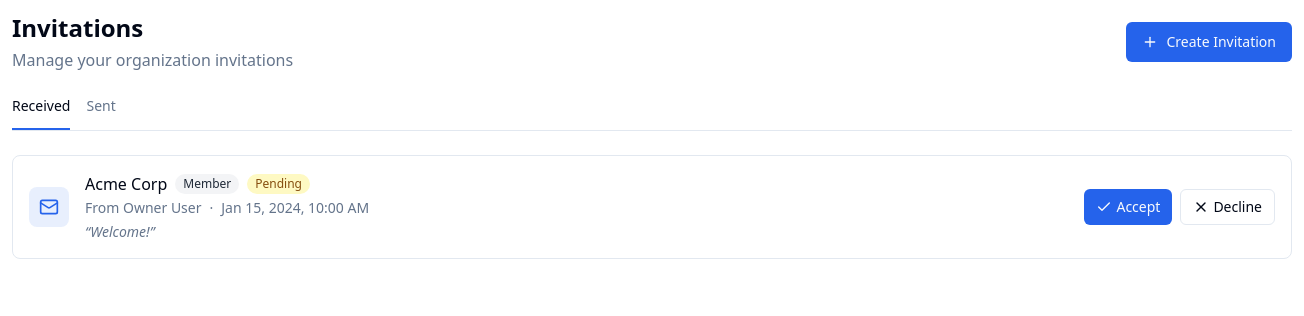
it: InvitationsPage › should show loading state for sent tab
Click the tab "Sent" at (101, 113), box [86,96,116,130]
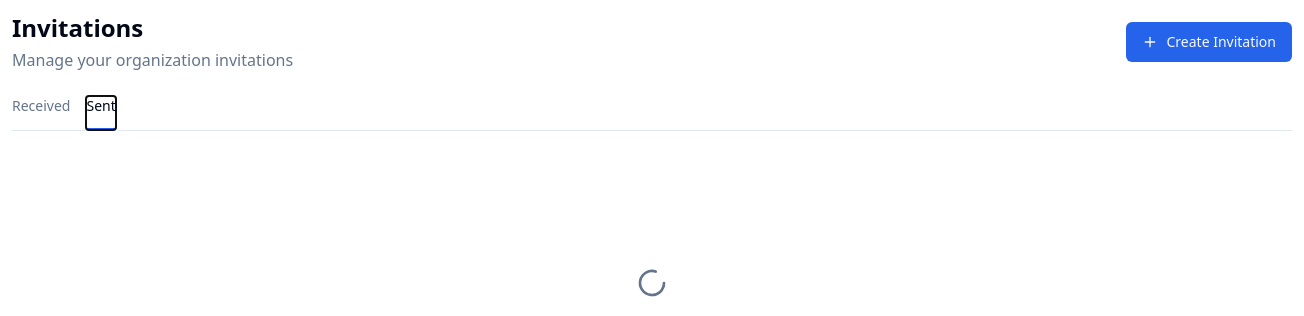
Expected: the message named "Loading invitations" is shown, [636,267,668,299]
